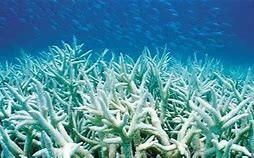bleached_corals: (0, 39, 254, 158)
